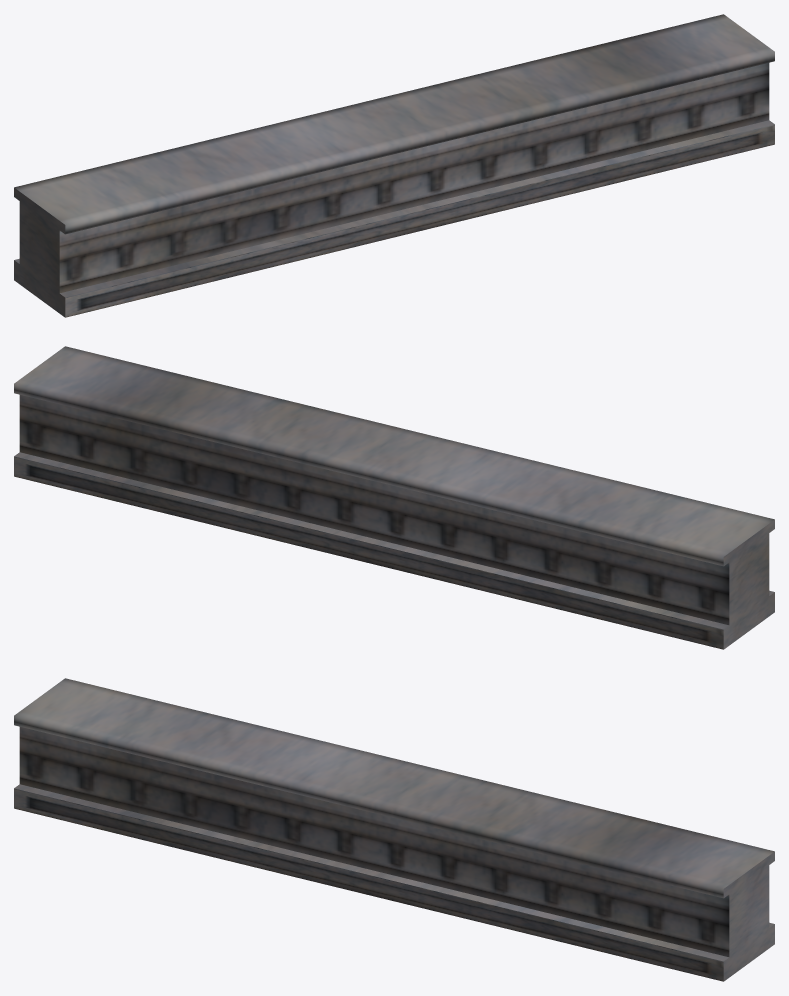
The model's file is railing_outside_01.fbx.
3 renders of one model, top to bottom at view 1: azimuth 30°, elevation 25°; view 2: azimuth 150°, elevation 25°; view 3: azimuth 330°, elevation 25°, orthographic.
Parts seen in each view (by area): view 1: railing_outside_01; view 2: railing_outside_01; view 3: railing_outside_01.
Boxes of the visible parts, box(x1,y1,x2,y2) form: railing_outside_01: box(14, 14, 774, 317); railing_outside_01: box(14, 346, 774, 649); railing_outside_01: box(14, 678, 774, 981).
Size of the model in its own units: 800 by 100 by 100.
